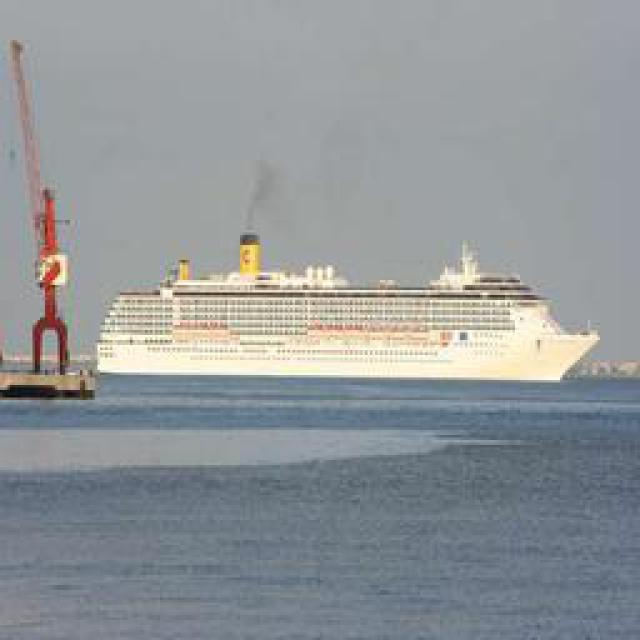Ship: (87, 260, 607, 390)
